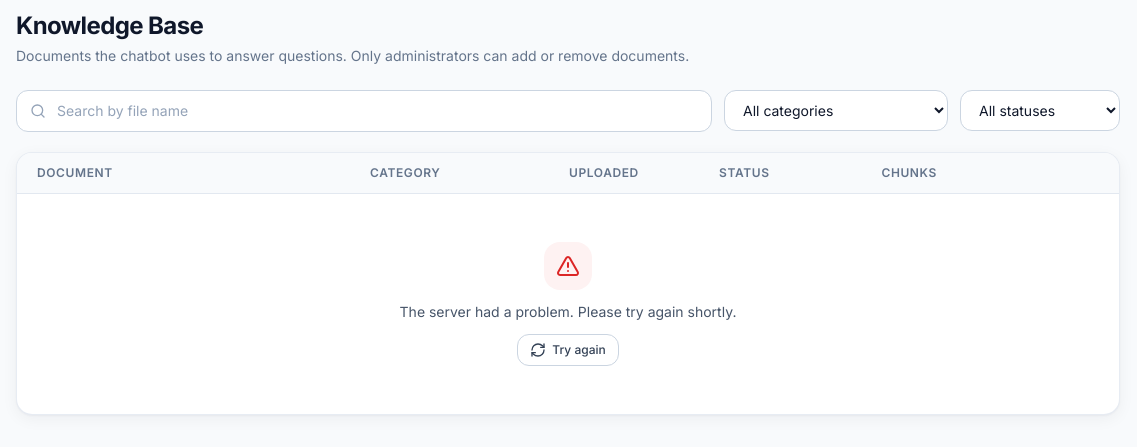
Test case: Knowledge base › shows an empty state for no results and an error state with retry
Expected: the text "The server had a problem. Please try again shortly." is shown, [400,302,736,322]
Click the button "Try again".
click(568, 350)  # box [517,334,619,366]
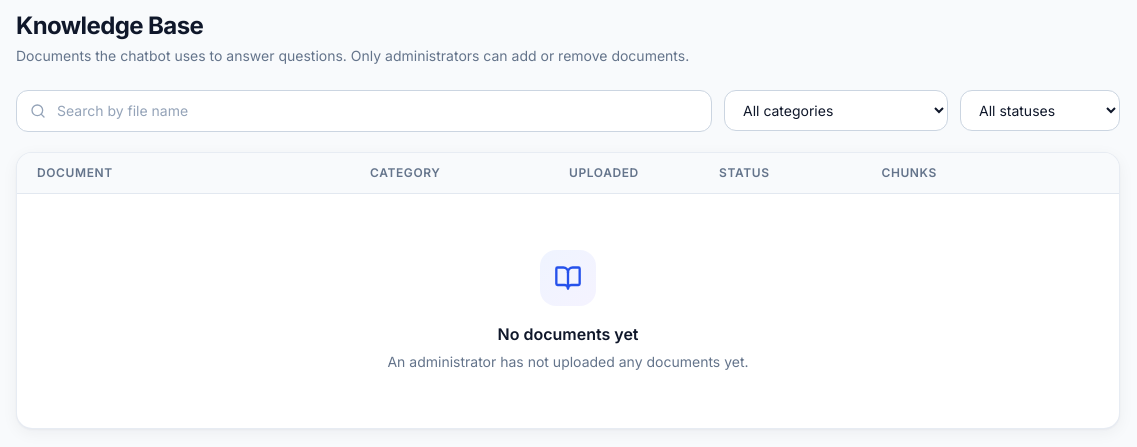
Result: the heading "No documents yet" is shown at [498,322,638,346]
Result: the text "An administrator has not uploaded any documents yet." is shown at [387,352,748,372]
